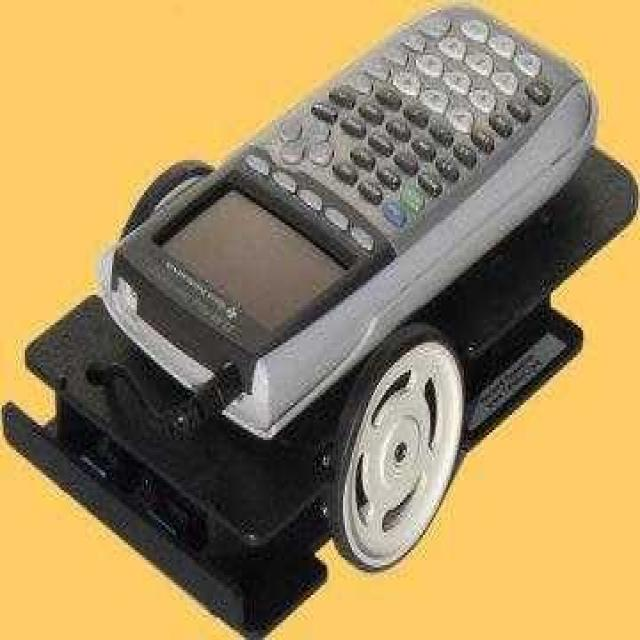Calculator: (107, 16, 606, 434)
